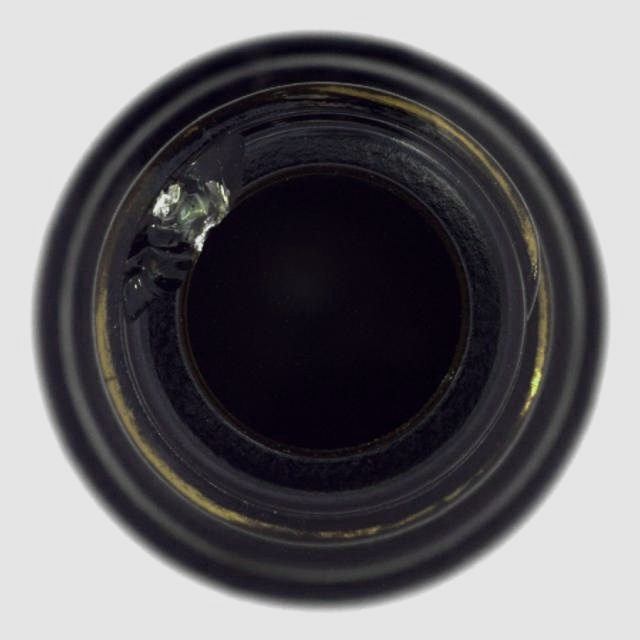bad-broken_small: (30, 31, 610, 613)
